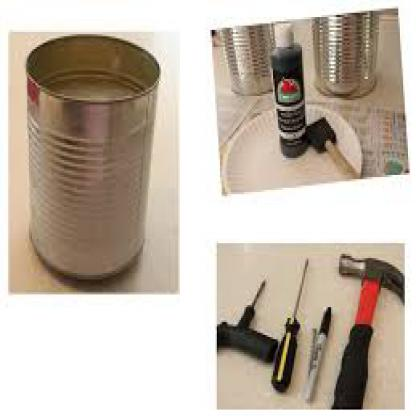METAL: (24, 32, 157, 279), (312, 9, 378, 96), (220, 21, 273, 92), (337, 252, 403, 303), (292, 256, 307, 316), (252, 277, 265, 303)
